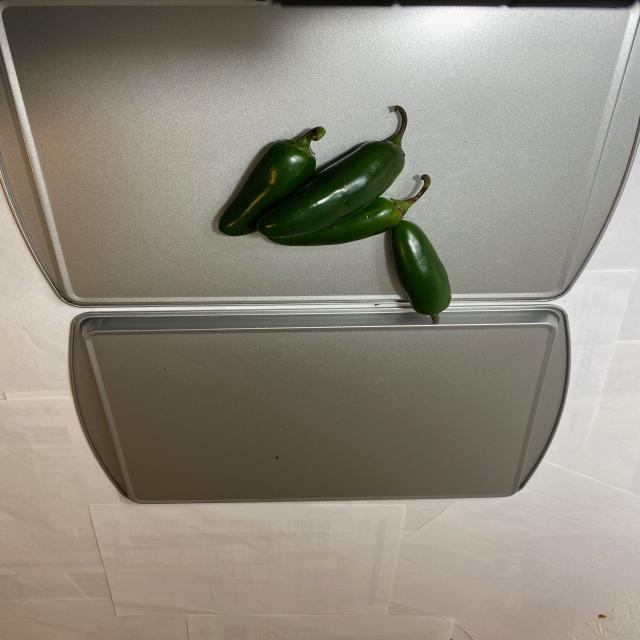chilli: (214, 107, 455, 326)
